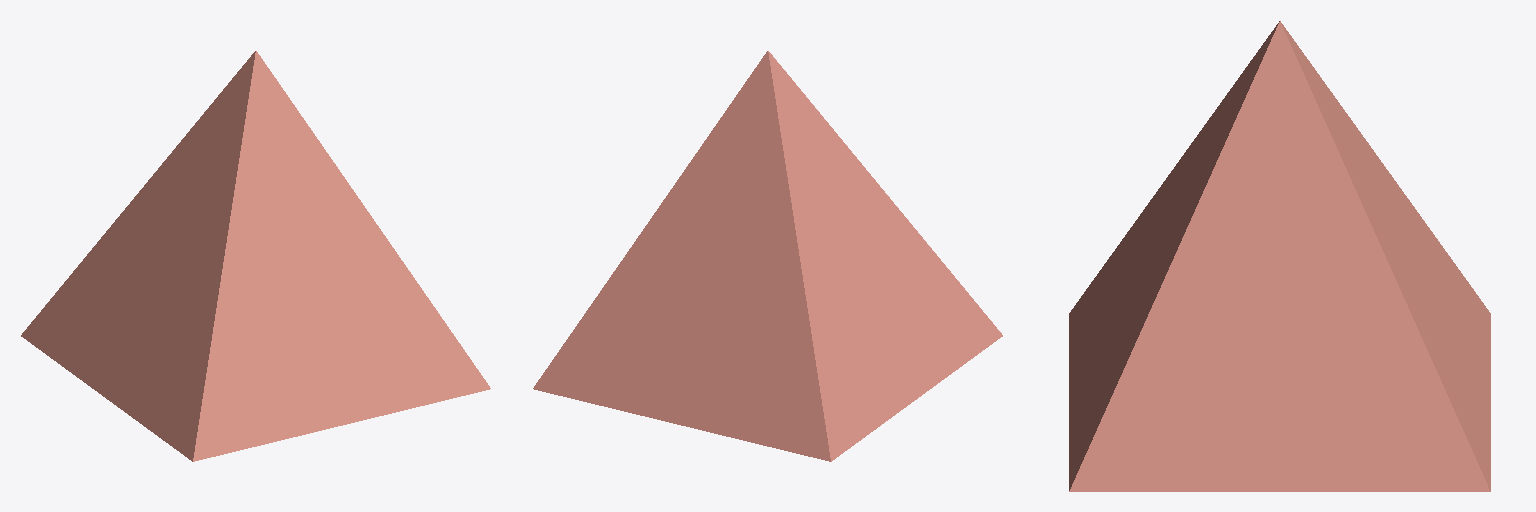
robot.urdf — pyramid.urdf:
<?xml version="1.0" ?>
<robot name="pyramid.urdf">
  <link name="baseLink">
    <contact>
      <friction_anchor/>
      <lateral_friction value="0.5"/>
      <rolling_friction value="0.005"/>
      <spinning_friction value="0.005"/>
    </contact>
    <inertial>
      <origin rpy="0 0 0" xyz="0 0 0"/>
      <mass value="0"/>
      <inertia ixx="1" ixy="0" ixz="0" iyy="1.3" iyz="0" izz="0.5"/>
    </inertial>
    <visual>
      <origin rpy="0 0 0" xyz="0 0 0"/>
      <geometry>
        <mesh filename="pyramid.obj" scale=".10 .10 .10"/>
      </geometry>
      <material name="Tumbleweed">
        <color rgba="0.9058823529411765 0.6352941176470588 0.5843137254901961 1"/>
      </material>
    </visual>
    <collision>
      <origin rpy="0 0 0" xyz="0 0 0"/>
      <geometry>
        <mesh filename="pyramid.obj" scale=".10 .10 .10"/>
      </geometry>
    </collision>
  </link>
</robot>

--- Facts derived from the render (not from the file) ---
3 views of the same robot in one strip: view 1: azimuth 30°, elevation 25°; view 2: azimuth 150°, elevation 25°; view 3: azimuth 270°, elevation 25° (orthographic).
Robot: pyramid.urdf — 1 links, 0 joints (none); root link baseLink; default pose: every joint at zero.
Links seen in each view (by area): view 1: baseLink; view 2: baseLink; view 3: baseLink.
Link boxes in pixels (bbox=[...]): baseLink: bbox=[21, 51, 490, 461]; baseLink: bbox=[533, 51, 1002, 461]; baseLink: bbox=[1069, 21, 1490, 491].
Bounding box of the posed robot: 0.1 × 0.1 × 0.1 m (x, y, z).
Meshes: 1 distinct files referenced, 1 mesh visuals loaded (1 OBJ).